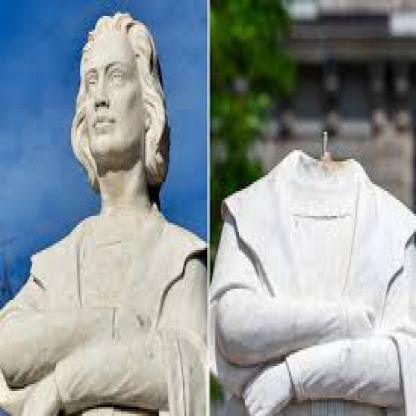Columbus: (0, 0, 211, 414), (214, 50, 414, 414)
